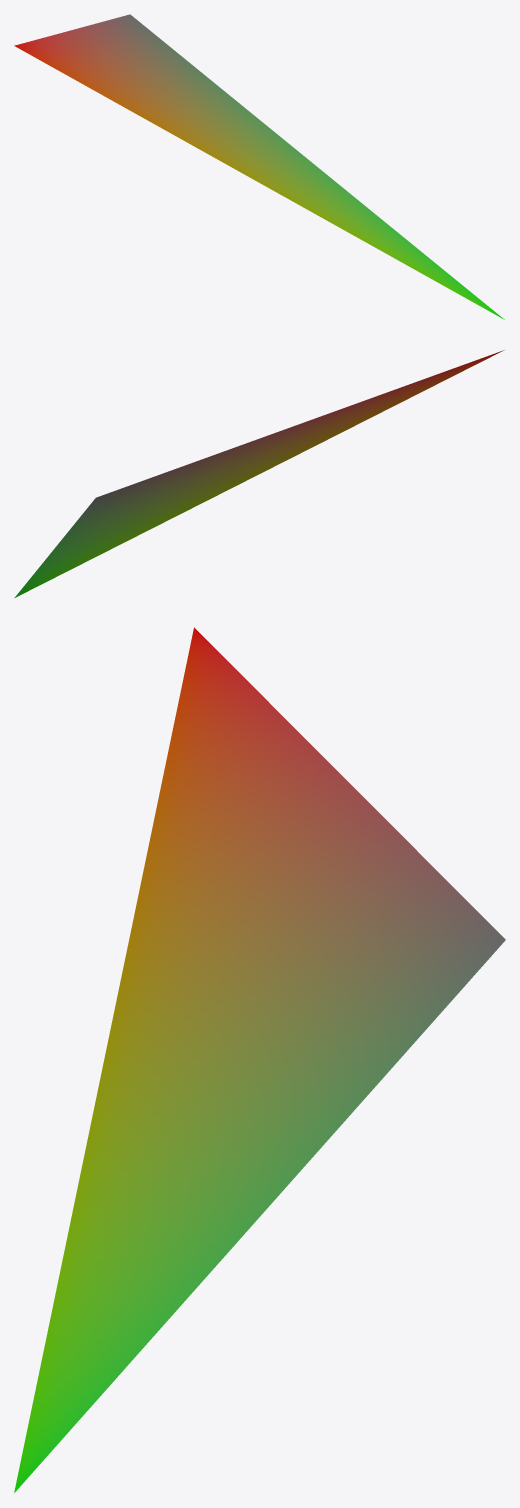
Rendered from start_border_patch_9.obj.
The picture shows the model from 3 angles, top to bottom: view 1: azimuth 30°, elevation 25°; view 2: azimuth 150°, elevation 25°; view 3: azimuth 270°, elevation 25°; orthographic projection. The views are drawn at different scales.
Bounding box in the file's own units: 0.9272 × 0.691 × 0.5781.
